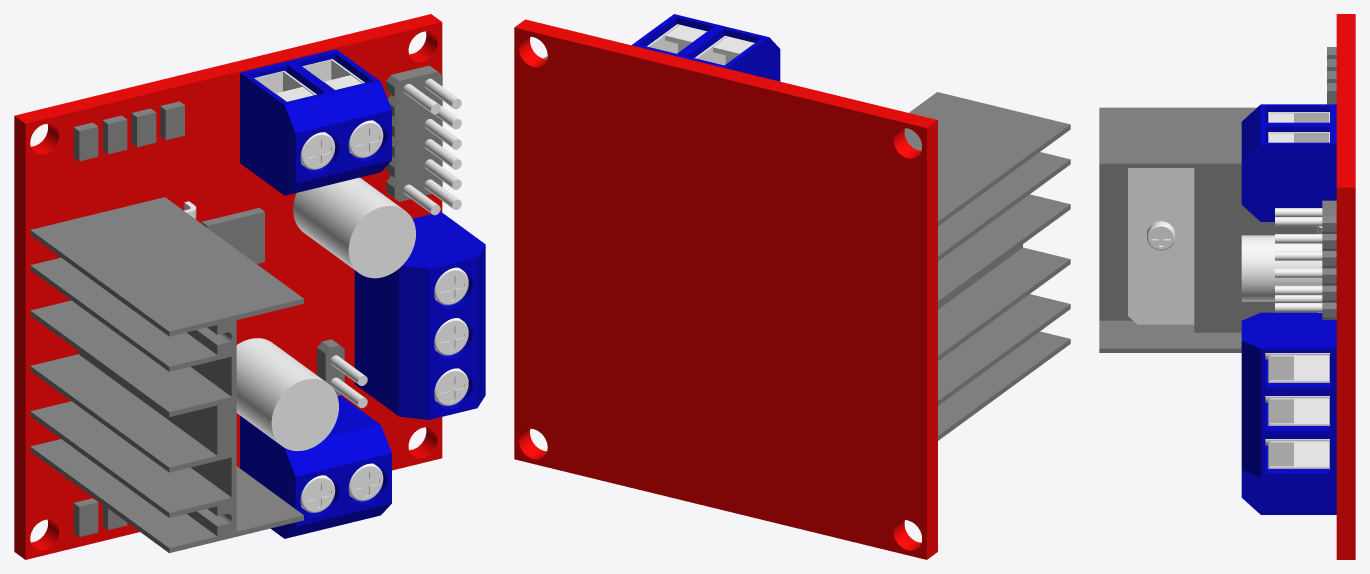
The picture shows the model from 3 angles, left to right: view 1: azimuth 30°, elevation 25°; view 2: azimuth 150°, elevation 25°; view 3: azimuth 270°, elevation 25°; orthographic projection. The views are drawn at different scales.
Visible parts, largest first — view 1: Pcb, Pengunci (×2), Pengunci 2; view 2: Pcb, Pengunci; view 3: Pcb, Pengunci 2, Pengunci (×2).
Boxes of the visible parts, x1=… form: Pcb: x1=14, y1=14, x2=461, y2=559; Pengunci (×2): x1=240, y1=49, x2=391, y2=538; Pengunci 2: x1=354, y1=212, x2=485, y2=419; Pcb: x1=514, y1=19, x2=1070, y2=559; Pengunci: x1=632, y1=14, x2=780, y2=81; Pcb: x1=1099, y1=14, x2=1355, y2=559; Pengunci 2: x1=1241, y1=312, x2=1336, y2=477; Pengunci (×2): x1=1241, y1=104, x2=1336, y2=514.
Size of the model in its own units: 0.0433 by 0.0433 by 0.027.
